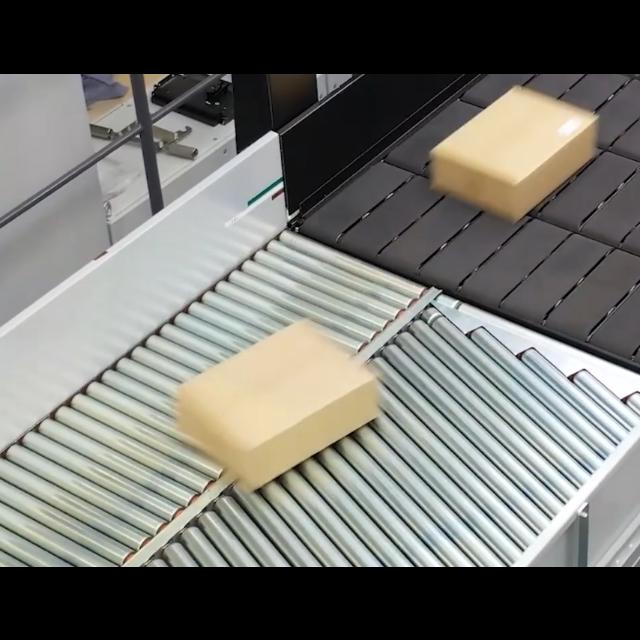box: (177, 318, 379, 480), (431, 88, 597, 216)
